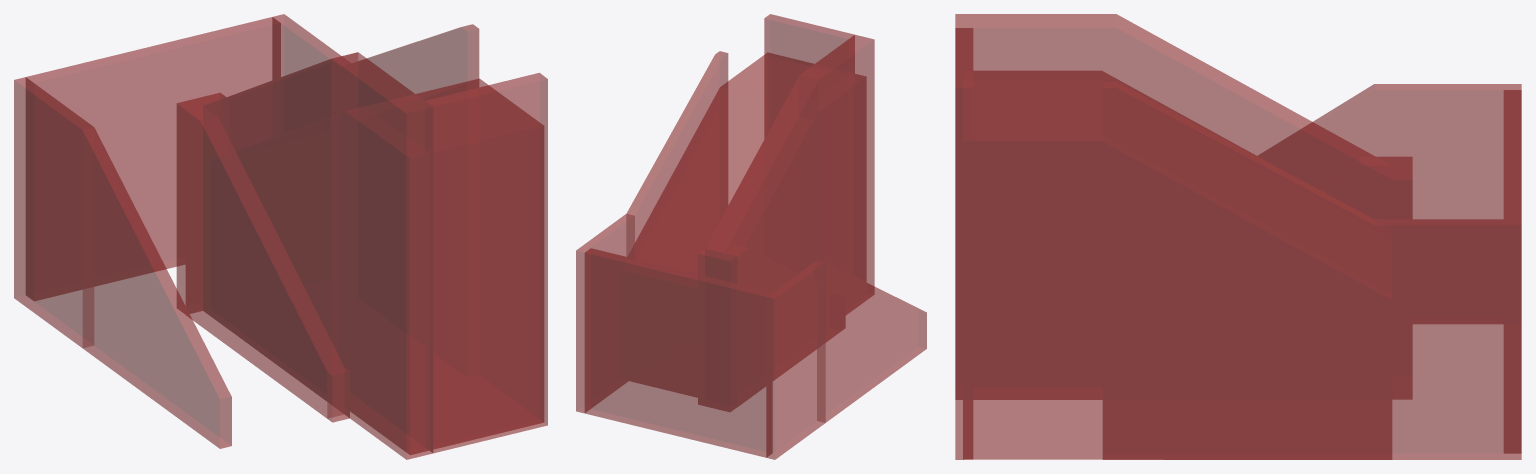
File: SM_Bld_Grandstand_Stairs_01_Collision.fbx
3 renders of one model, left to right at view 1: azimuth 30°, elevation 25°; view 2: azimuth 150°, elevation 25°; view 3: azimuth 270°, elevation 25°, orthographic. The views are drawn at different scales.
Parts seen in each view (by area): view 1: SM_Bld_Grandstand_Stairs_01_Collision; view 2: SM_Bld_Grandstand_Stairs_01_Collision; view 3: SM_Bld_Grandstand_Stairs_01_Collision.
Boxes of the visible parts, x1,y1,x2,y2 form: SM_Bld_Grandstand_Stairs_01_Collision: (14, 14, 547, 459); SM_Bld_Grandstand_Stairs_01_Collision: (576, 14, 926, 459); SM_Bld_Grandstand_Stairs_01_Collision: (955, 14, 1521, 459).
Size of the model in its own units: 572 by 701 by 966.
